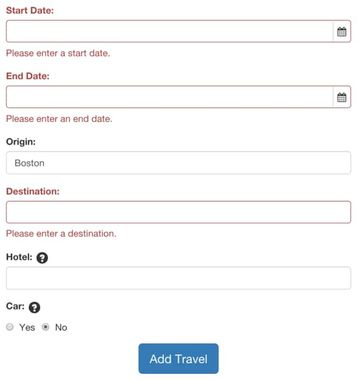_form_: (1, 1, 359, 380)
button: (137, 344, 220, 376)
field: (3, 264, 352, 291), (4, 84, 352, 110), (4, 18, 351, 44), (5, 150, 351, 176), (5, 201, 353, 225)
field_with_label: (4, 135, 353, 177), (2, 4, 354, 45), (2, 70, 354, 111), (2, 251, 353, 292), (4, 187, 355, 227)
radio: (3, 322, 14, 331), (41, 321, 50, 331)
radio_with_label: (3, 320, 36, 332), (40, 320, 69, 332)
